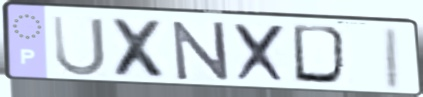D: (290, 23, 355, 89)
I: (381, 25, 404, 93)
N: (169, 20, 232, 83)
U: (49, 14, 109, 79)
X: (107, 16, 173, 82), (231, 21, 291, 86)
